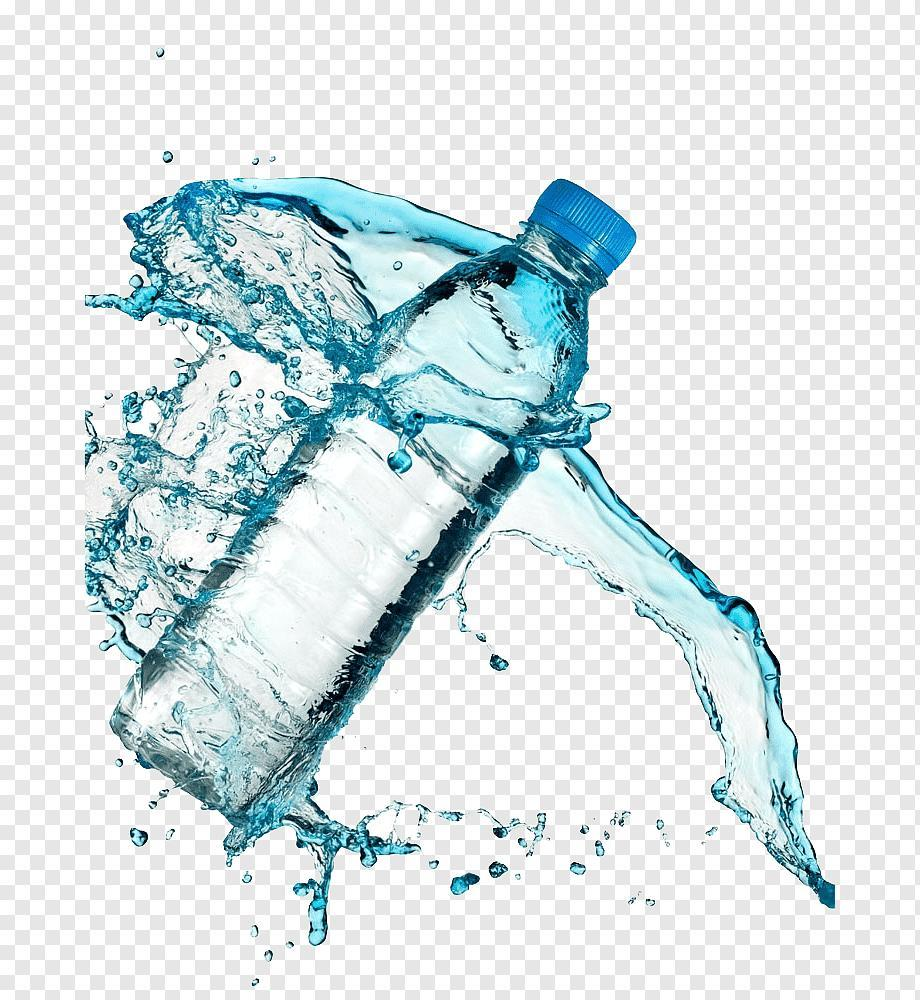bottle: (104, 172, 678, 811)
